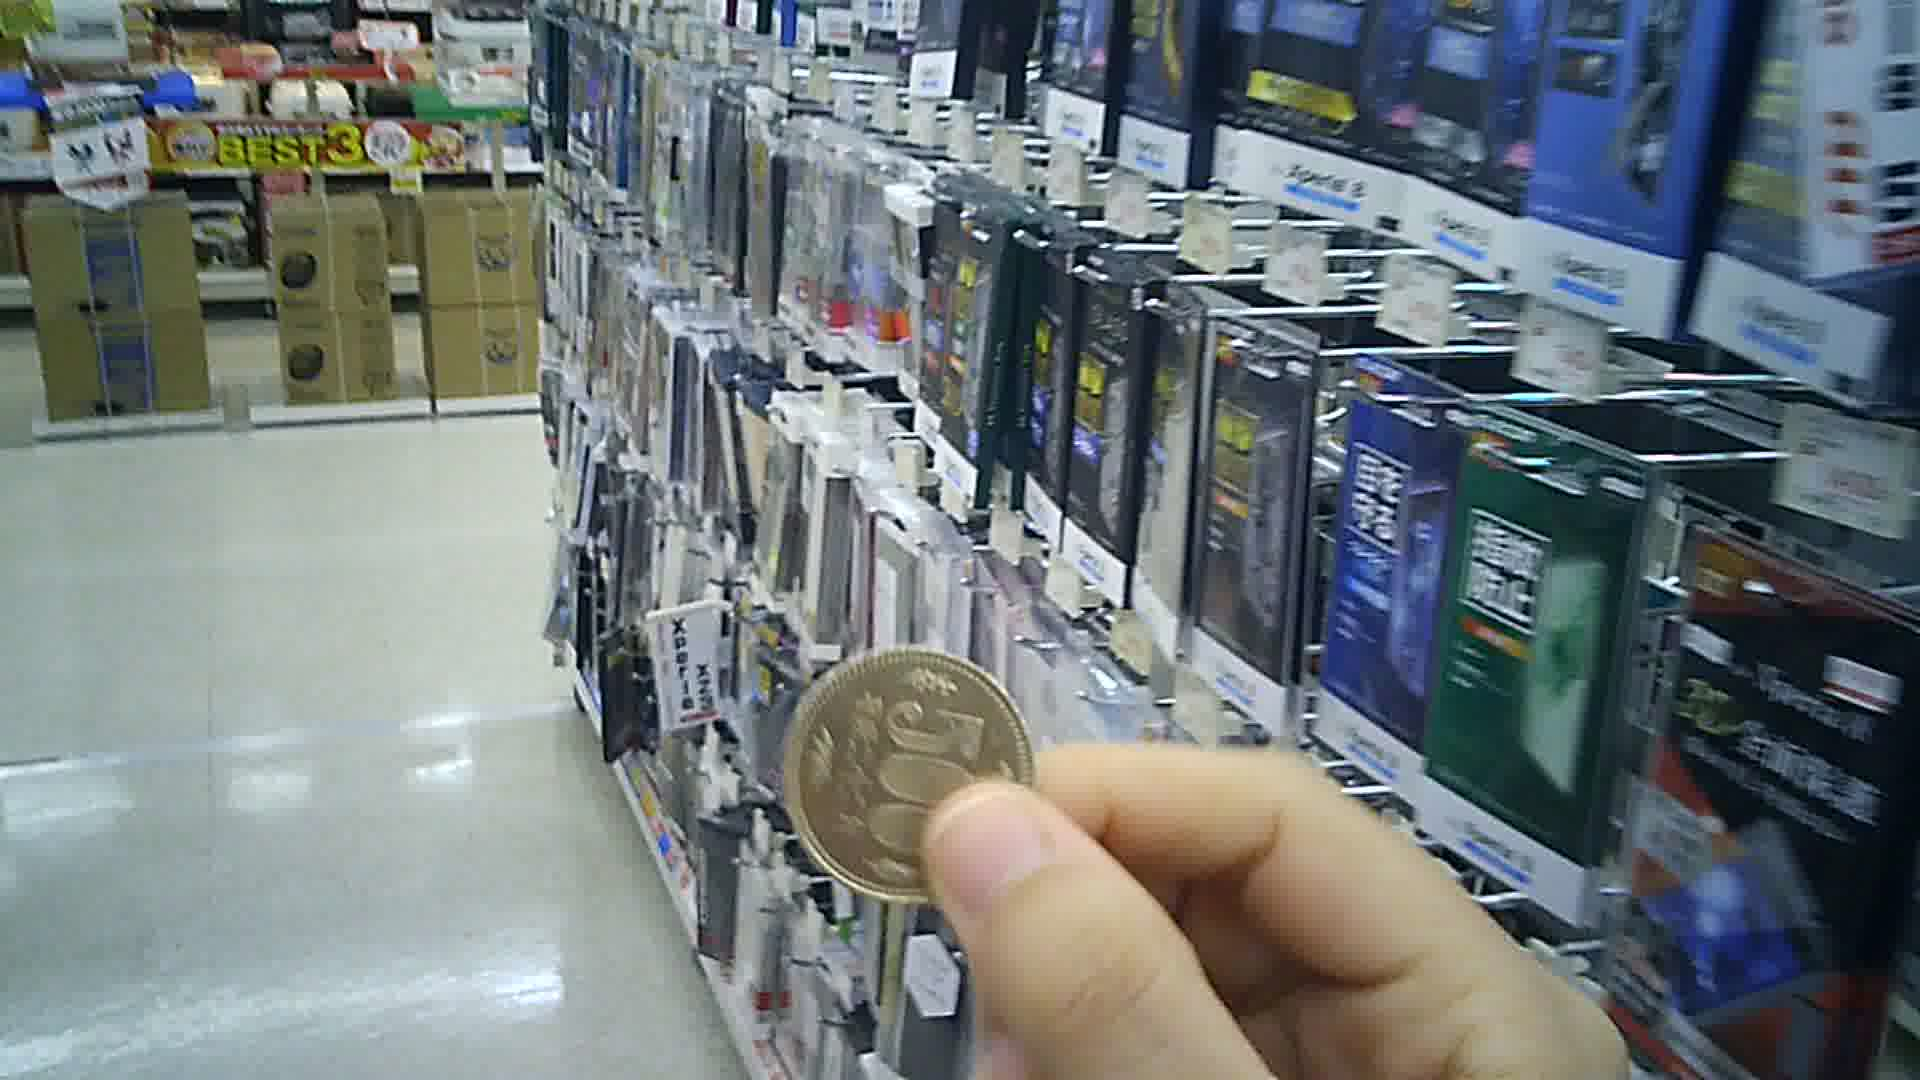500 Yen: (781, 651, 1040, 905)
